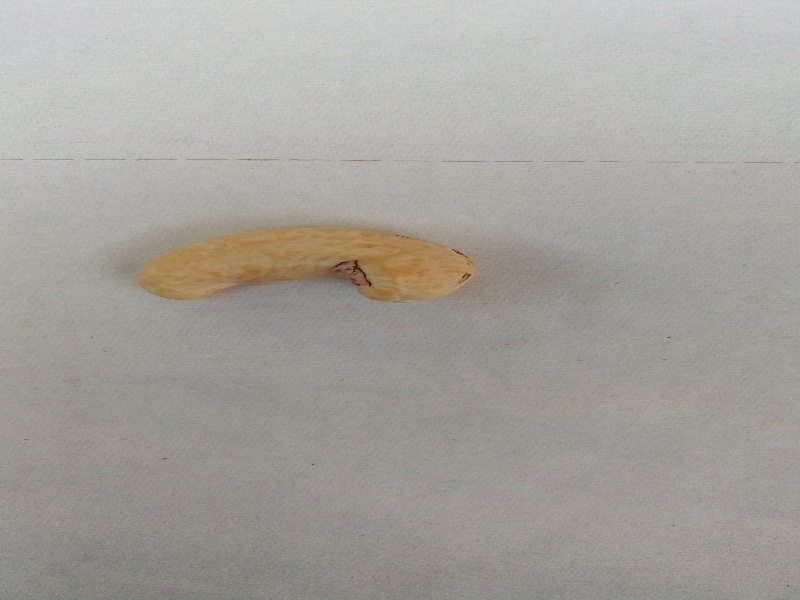cashew: (117, 214, 508, 339)
